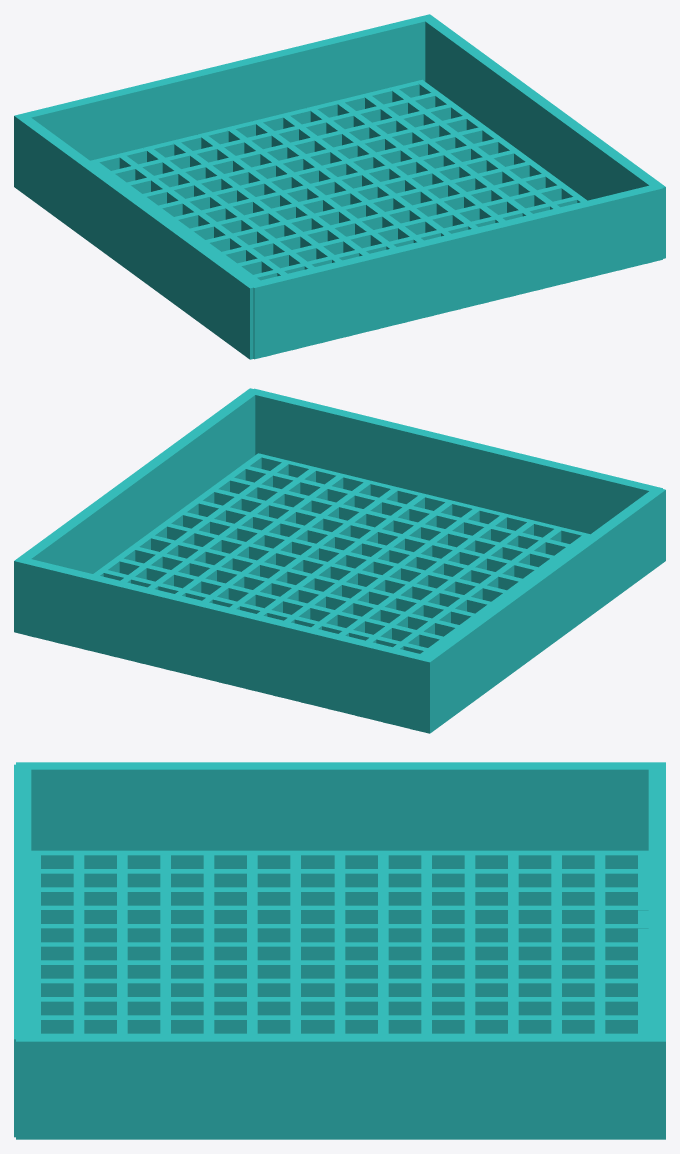
Rendered from dish rack flat.fbx.
3 views of the same model, one above another, from view 1: azimuth 30°, elevation 25°; view 2: azimuth 150°, elevation 25°; view 3: azimuth 270°, elevation 25° (orthographic). The views are drawn at different scales.
Parts seen in each view (by area): view 1: Cube.033; view 2: Cube.033; view 3: Cube.033.
Boxes of the visible parts, box(x1,y1,x2,y2) form: Cube.033: box(14, 14, 665, 359); Cube.033: box(14, 388, 665, 733); Cube.033: box(14, 762, 665, 1139).
Size of the model in its own units: 611 by 101 by 602.
